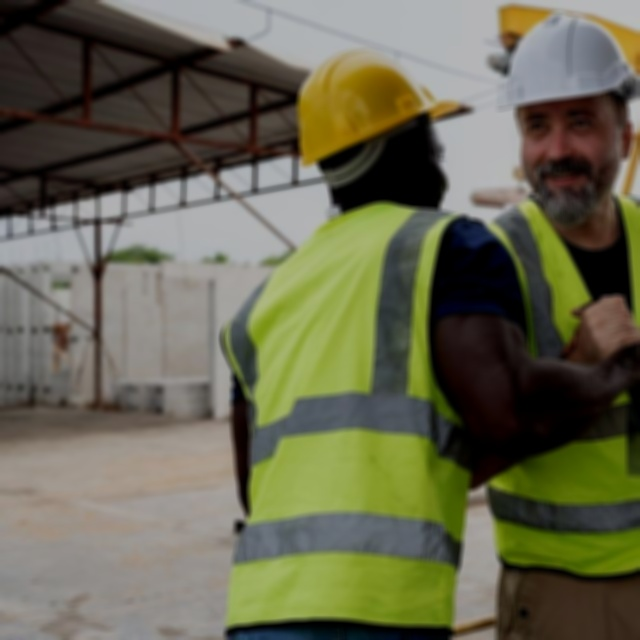Con_Casco: (488, 13, 640, 204), (295, 49, 459, 207)
Con_Chaleco: (223, 199, 473, 640), (478, 187, 640, 576)
